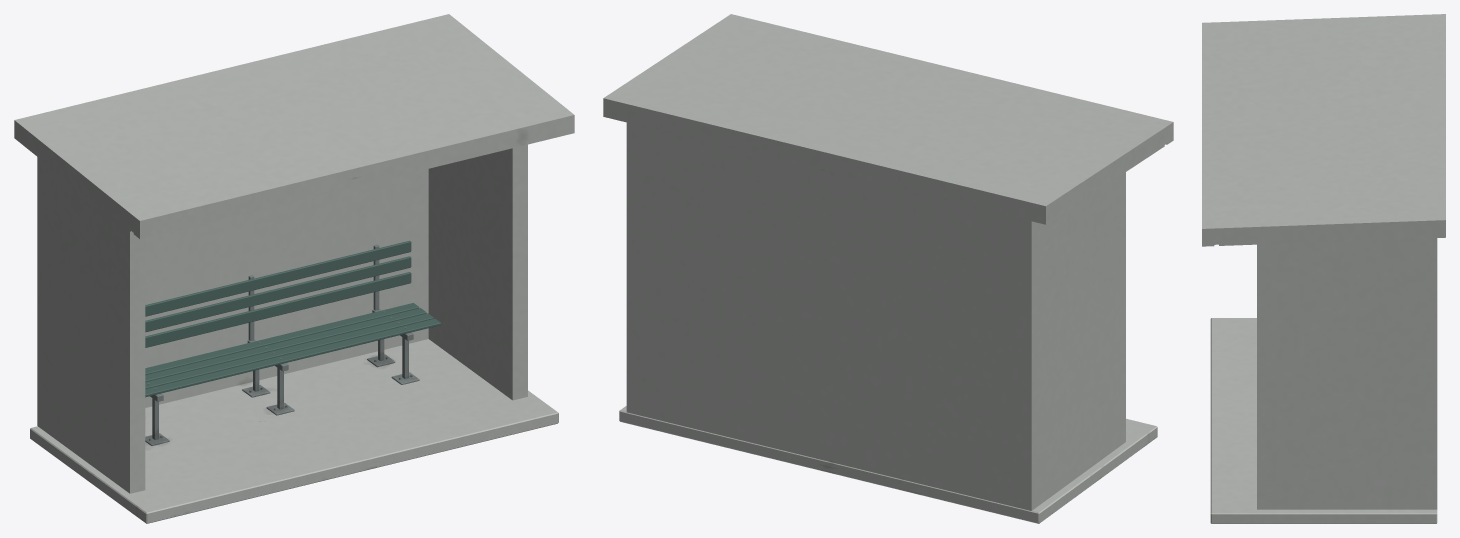
File: soviet_bus_shelter_intact.glb
The picture shows the model from 3 angles, left to right: view 1: azimuth 30°, elevation 25°; view 2: azimuth 150°, elevation 25°; view 3: azimuth 270°, elevation 25°; orthographic projection. The views are drawn at different scales.
Parts seen in each view (by area): view 1: SovietBusShelterIntact; view 2: SovietBusShelterIntact; view 3: SovietBusShelterIntact.
Boxes of the visible parts, x1,y1,x2,y2 form: SovietBusShelterIntact: (14, 14, 574, 523); SovietBusShelterIntact: (603, 14, 1173, 523); SovietBusShelterIntact: (1202, 14, 1445, 523).
Size of what is drawn, in the model's own units: 4 by 2.8 by 2.
Materials: 1 (1 with a texture image).
